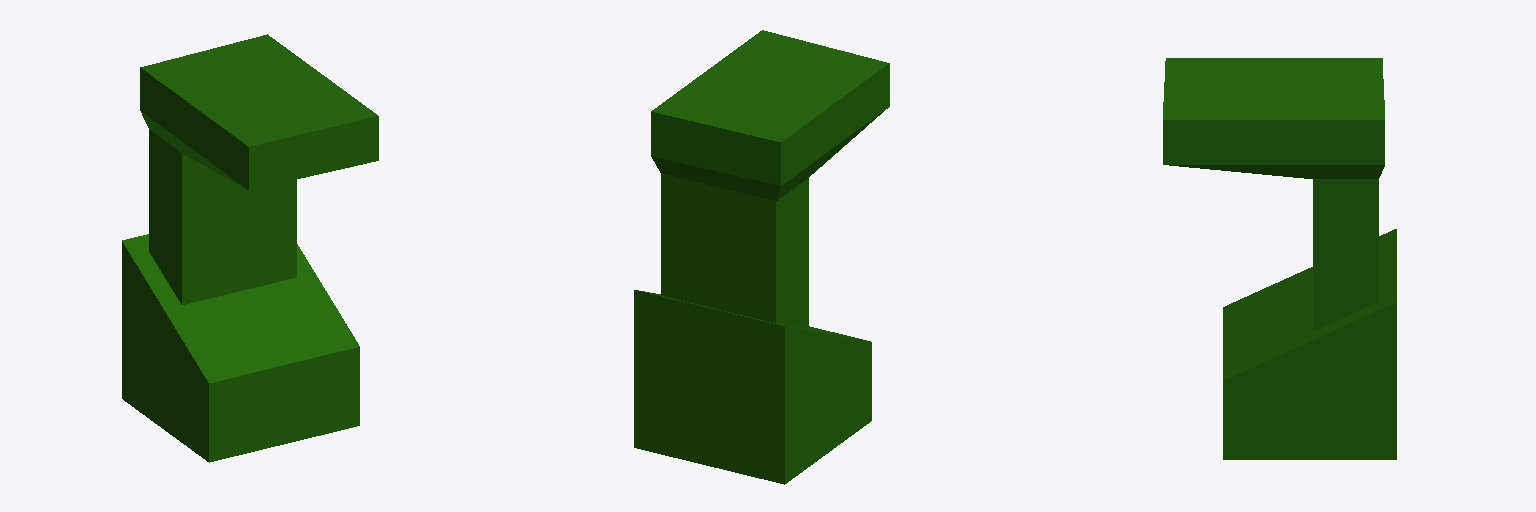
File: Machine.obj
The picture shows the model from 3 angles: view 1: azimuth 30°, elevation 25°; view 2: azimuth 150°, elevation 25°; view 3: azimuth 270°, elevation 25°; orthographic projection.
Parts seen in each view (by area): view 1: Cube; view 2: Cube; view 3: Cube.
Boxes of the visible parts, box(x1,y1,x2,y2) form: Cube: box(122, 34, 378, 462); Cube: box(634, 30, 889, 484); Cube: box(1163, 58, 1396, 459).
Size of the model in its own units: 0.5419 by 1.15 by 0.7285.